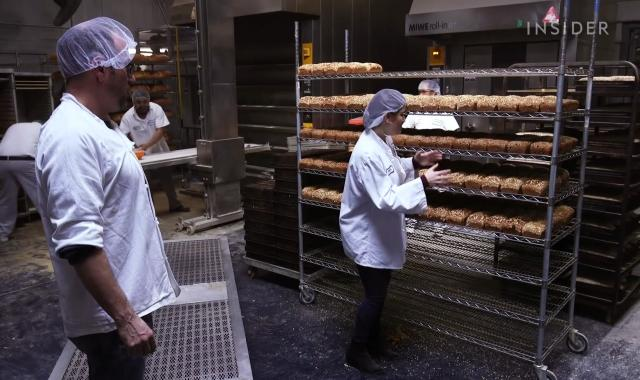hairnet: (51, 17, 135, 71), (362, 89, 404, 132), (418, 80, 444, 94), (130, 88, 152, 101)
